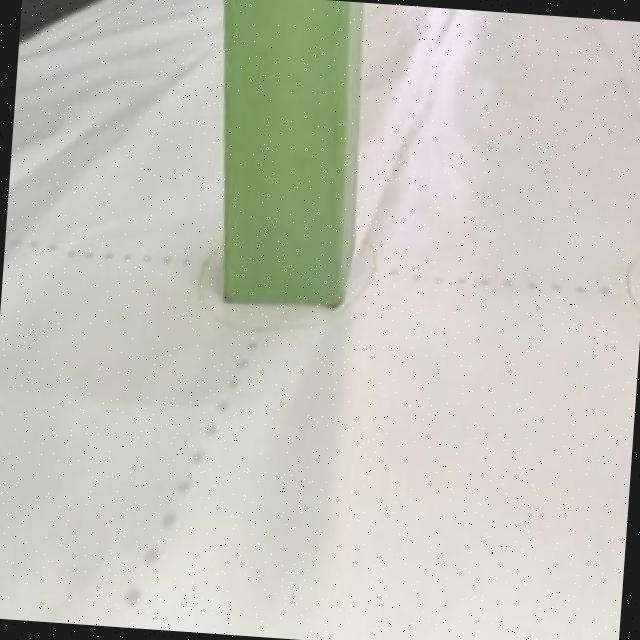greenbox: (198, 0, 371, 314)
